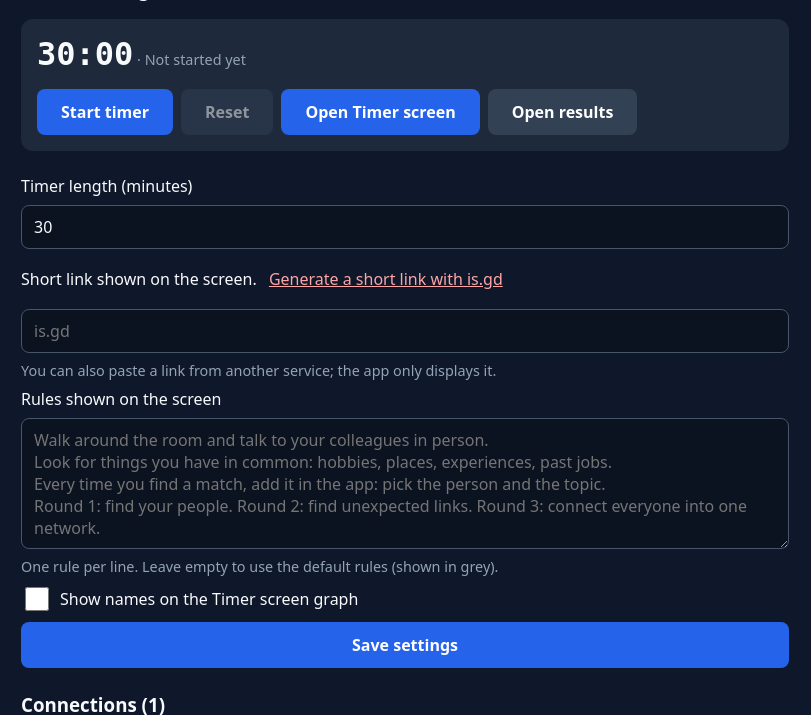
Scenario: Timer and screen settings (admin page) › saves the short link, rules, timer length and names toggle
(page scrolled)
Expected: the button "Start timer" is shown, left=37, top=89, right=173, bottom=135
Type "aka.ms/connect" into the field labelled "Short link shown on the screen." at (405, 331), box left=21, top=309, right=789, bottom=353
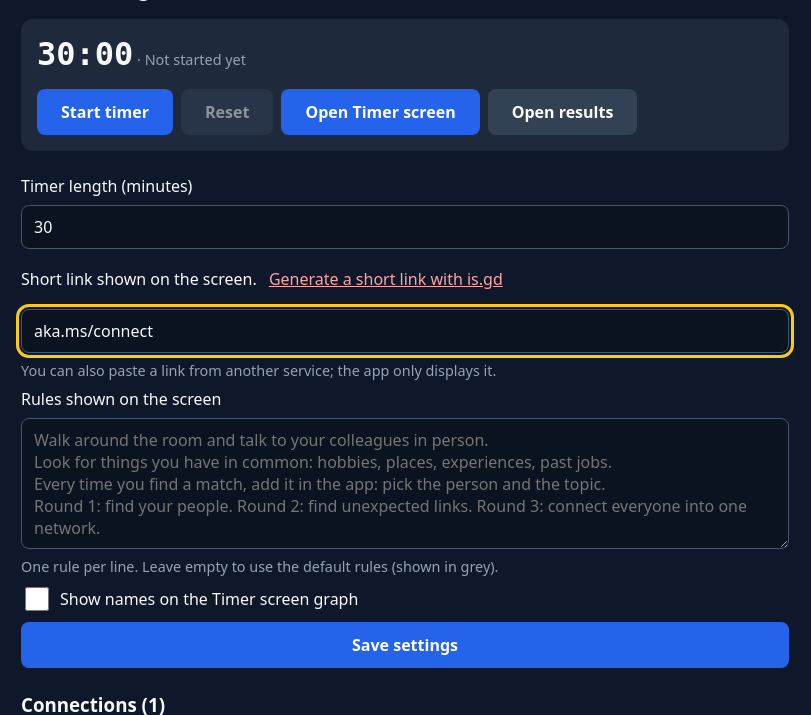
Type "Be kind." into the text box labelled "Rules shown on the screen" at (405, 484), box left=21, top=418, right=789, bottom=550
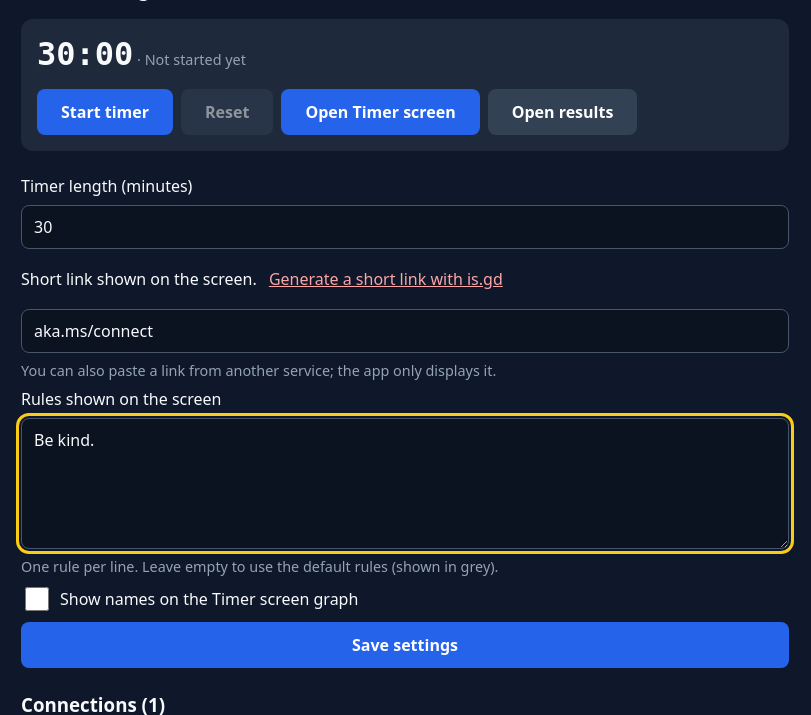
Replace the text in the number field labelled "Timer length (minutes)" with "45" at (405, 227), box left=21, top=205, right=789, bottom=249
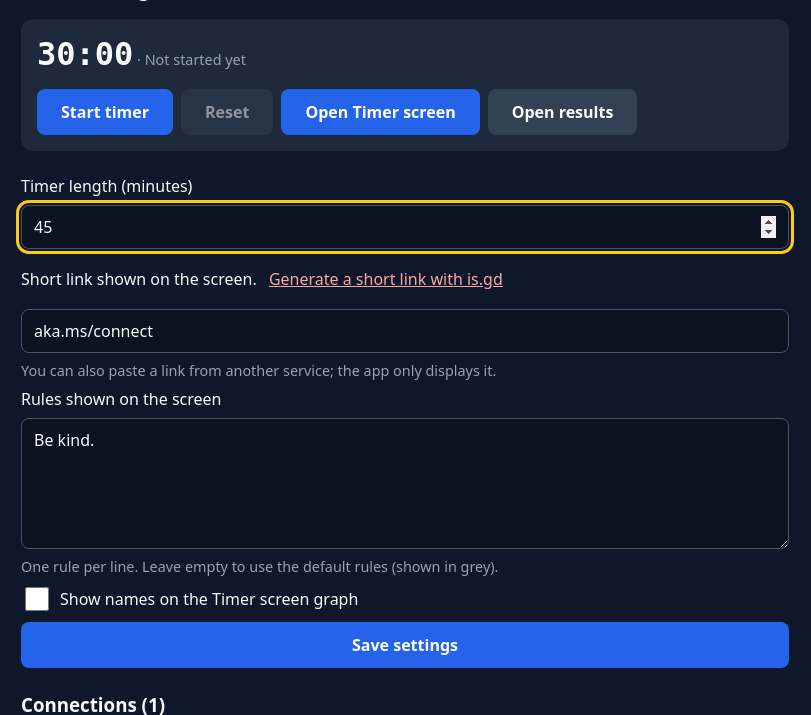
Click the checkbox labelled "Show names on the Timer screen graph" at (37, 599), box left=25, top=587, right=49, bottom=611
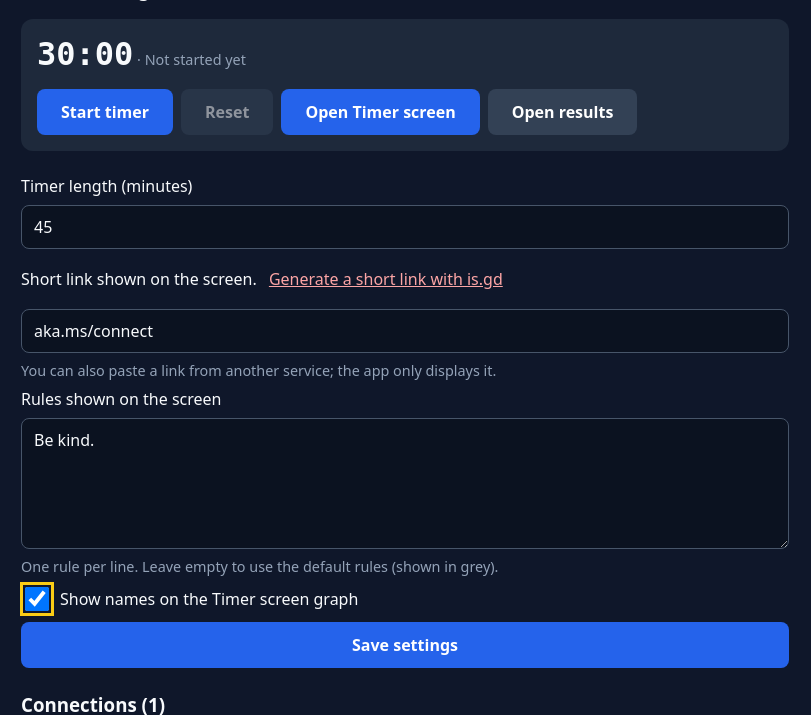
Click the button "Save settings" at (405, 645), box left=21, top=622, right=789, bottom=668
(page scrolled)
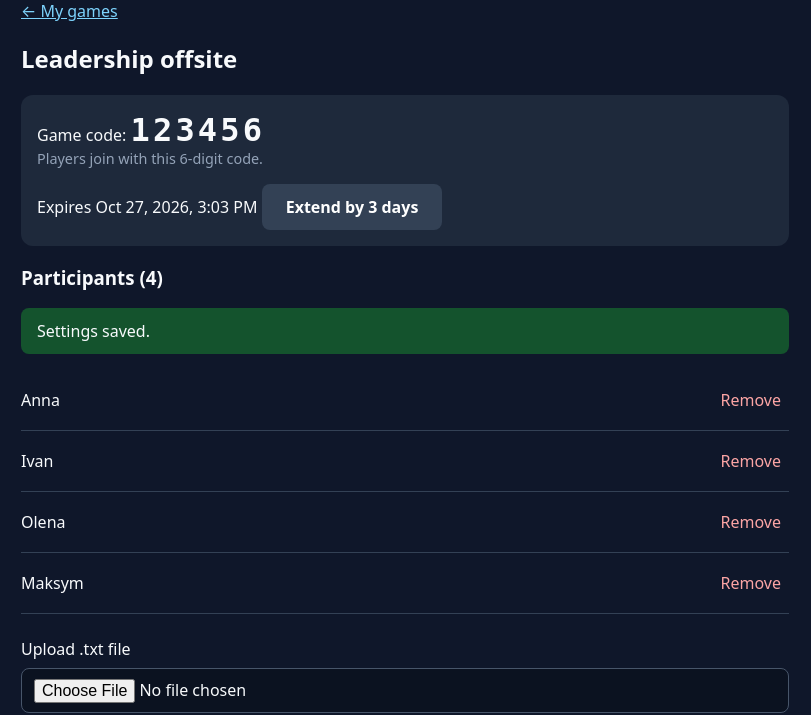
Expected: the text "Settings saved." is shown, left=21, top=308, right=789, bottom=354
